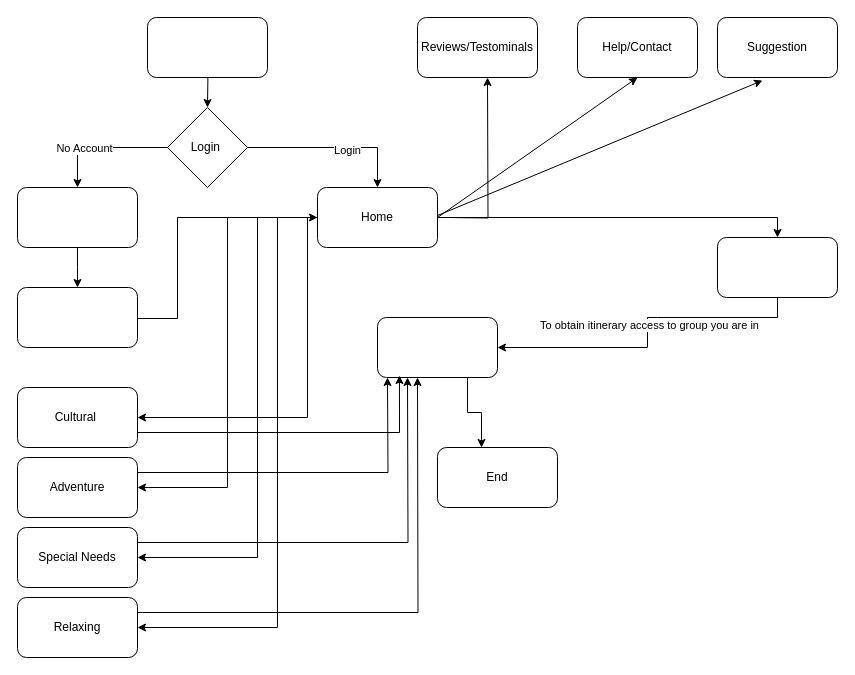
This 855x675 diagram has some shape labels left out. The shapes that lost their labels are listed below. From the top down, each one's centre as x and y in pixels, then its label:
At point 207,47: "Start".
At point 77,217: "Sign up".
At point 777,267: "User Profile".
At point 77,317: "Complete Profile".
At point 437,347: "Join Group (Itinerary Access)".
